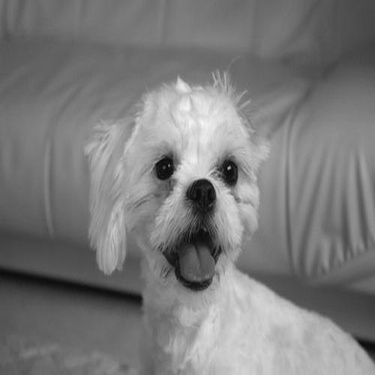dog: (62, 60, 371, 373)
